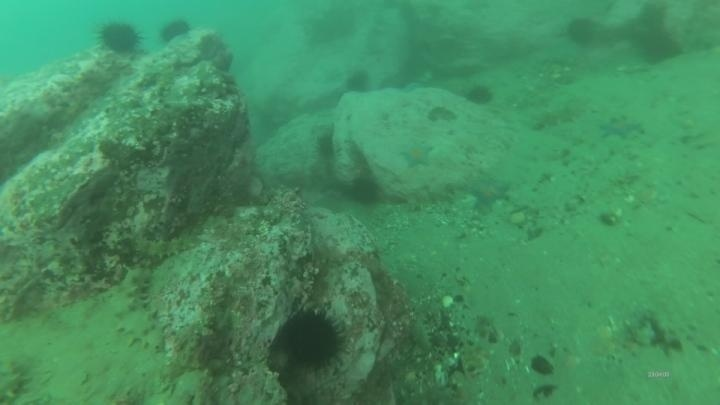echinus: (275, 305, 348, 373), (635, 28, 681, 66), (96, 19, 143, 56), (347, 174, 383, 208), (564, 16, 600, 49), (157, 17, 193, 46), (343, 68, 373, 97), (463, 82, 496, 108), (313, 130, 339, 162)
holothurian: (111, 263, 170, 354), (129, 230, 202, 267), (406, 296, 440, 358), (528, 98, 588, 132), (0, 357, 32, 405)
starfish: (466, 173, 512, 211), (597, 115, 645, 142), (398, 140, 436, 170)
